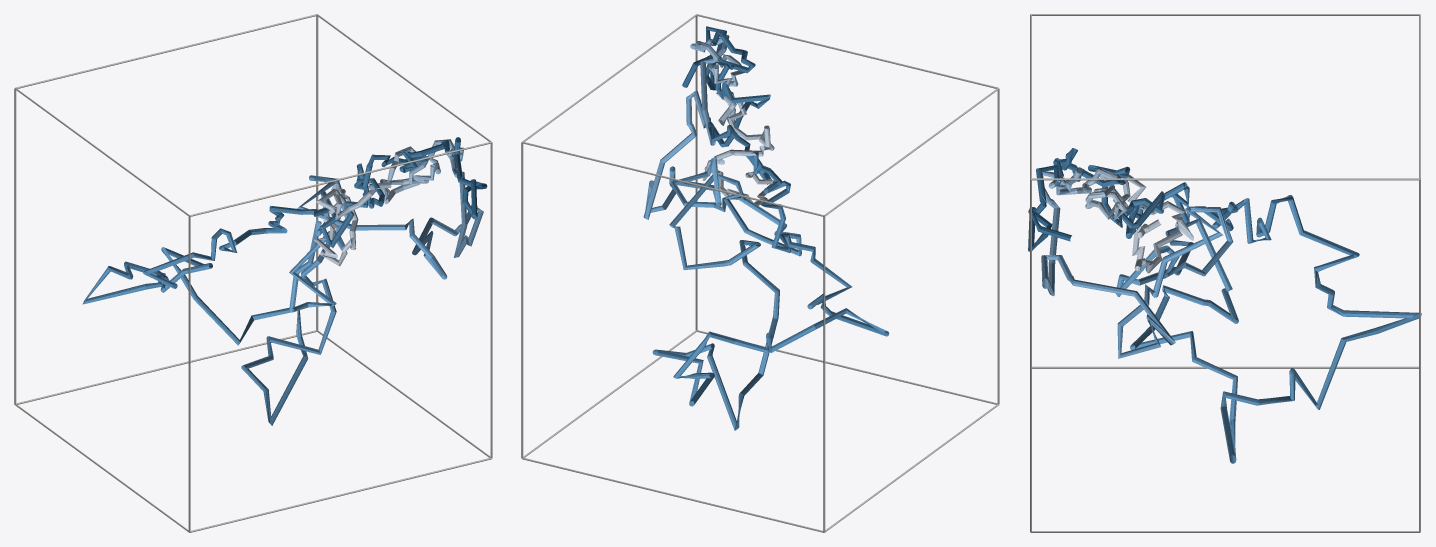
The picture shows the model from 3 angles, left to right: view 1: azimuth 30°, elevation 25°; view 2: azimuth 150°, elevation 25°; view 3: azimuth 270°, elevation 25°; orthographic projection. The views are drawn at different scales.
Visible parts, largest first — view 1: geometry_0, geometry_1; view 2: geometry_0, geometry_1; view 3: geometry_0, geometry_1.
Part boxes in pixels (box(x1,y1,x2,y2)): geometry_0: box(82, 137, 487, 425); geometry_1: box(14, 14, 492, 532); geometry_0: box(643, 26, 889, 430); geometry_1: box(521, 14, 999, 532); geometry_0: box(1028, 148, 1421, 463); geometry_1: box(1030, 14, 1420, 532).
Bounding box in the file's own units: 0.3016 × 0.3041 × 0.3038.
